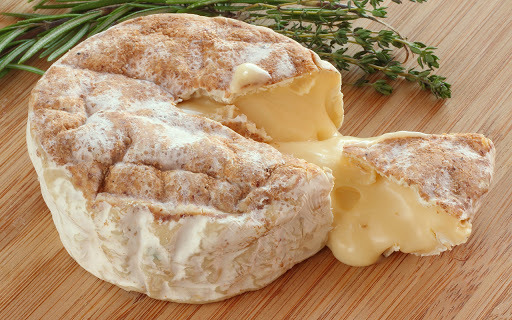camembert: (25, 10, 496, 303)
